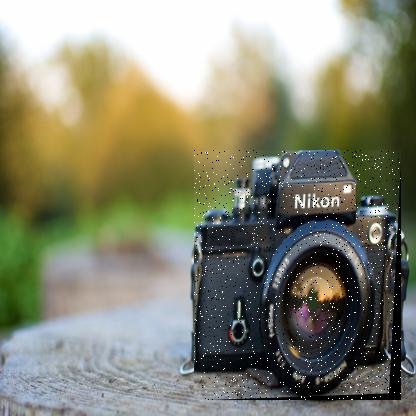Camera: (195, 151, 403, 402)
